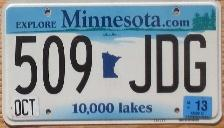0: (41, 33, 66, 96)
5: (13, 34, 39, 95)
9: (69, 32, 96, 95)
D: (155, 32, 181, 95)
G: (182, 32, 208, 94)
J: (127, 33, 154, 95)
